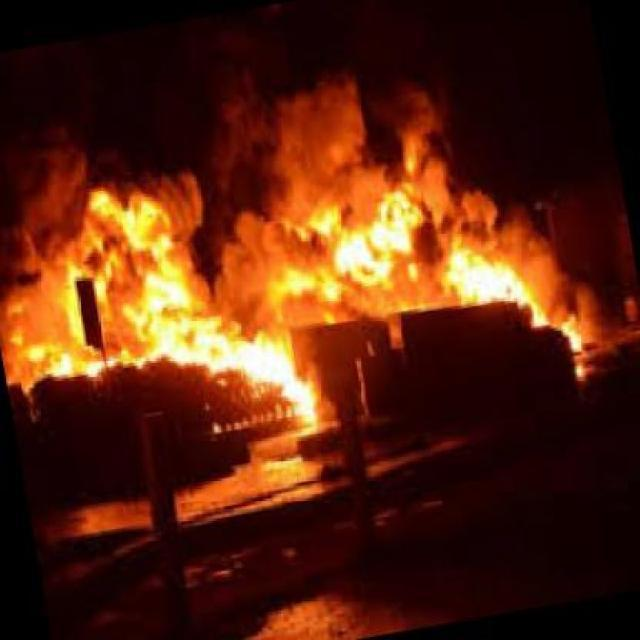Fire: (58, 186, 194, 378), (290, 192, 428, 301), (189, 316, 320, 422), (440, 245, 568, 336)
Smoke: (194, 73, 290, 319), (278, 73, 462, 195), (4, 126, 54, 369), (424, 174, 562, 244), (564, 270, 640, 345)
